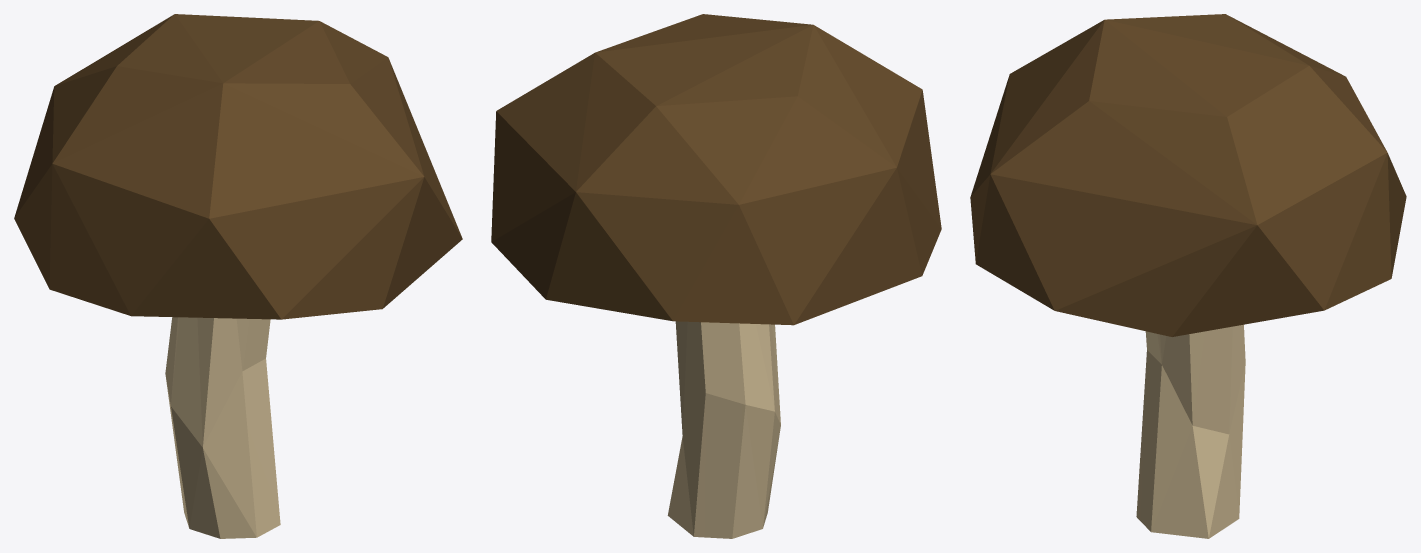
The model's file is Mushroom_11.fbx.
The picture shows the model from 3 angles, left to right: view 1: azimuth 30°, elevation 25°; view 2: azimuth 150°, elevation 25°; view 3: azimuth 270°, elevation 25°; orthographic projection.
Visible parts, largest first — view 1: Mushroom_11; view 2: Mushroom_11; view 3: Mushroom_11.
Boxes of the visible parts, bbox=[...] form: Mushroom_11: bbox=[14, 14, 462, 538]; Mushroom_11: bbox=[491, 14, 941, 538]; Mushroom_11: bbox=[970, 14, 1406, 538].
Size of the model in its own units: 10.34 by 12.32 by 10.28.
